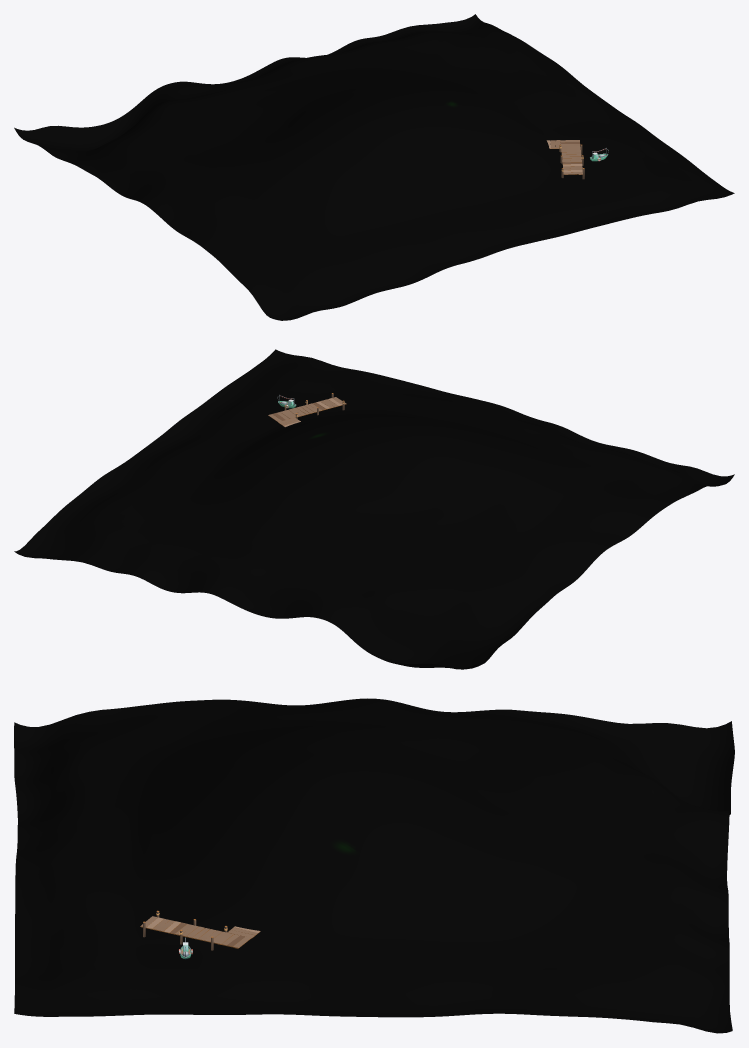
3 views of the same model, one above another, from view 1: azimuth 30°, elevation 25°; view 2: azimuth 150°, elevation 25°; view 3: azimuth 270°, elevation 25° (orthographic). The views are drawn at different scales.
Parts seen in each view (by area): view 1: land.001, Mesh; view 2: land.001, Mesh; view 3: land.001, Mesh.
Part boxes in pixels (box(x1,y1,x2,y2)): land.001: box(14, 14, 734, 320); Mesh: box(546, 140, 584, 179); land.001: box(14, 349, 734, 669); Mesh: box(268, 393, 346, 427); land.001: box(14, 698, 734, 1033); Mesh: box(140, 910, 260, 950).
Size of what is drawn, in the model's own units: 152 by 28.66 by 149.
2 materials, 2 textured.
